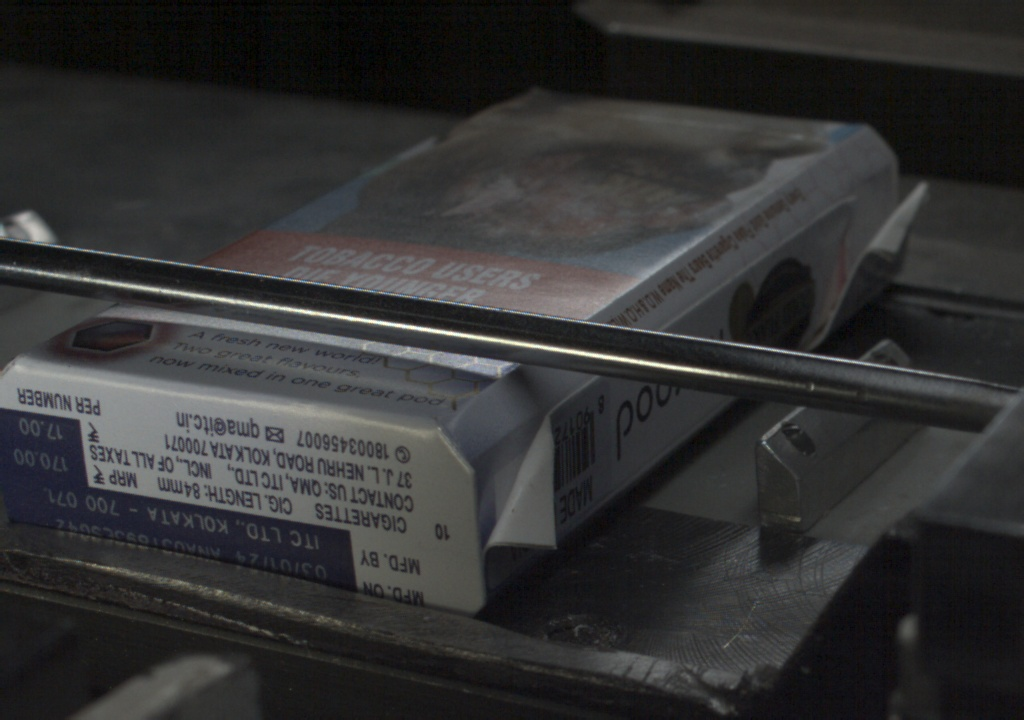g_bottom: (1, 361, 470, 617)
g_label: (2, 485, 357, 592)
g_lmiter: (661, 254, 767, 329), (765, 189, 851, 257)
ng_lmiter: (475, 410, 553, 558)
ng_miter: (860, 163, 931, 268)
price: (1, 414, 85, 482)
